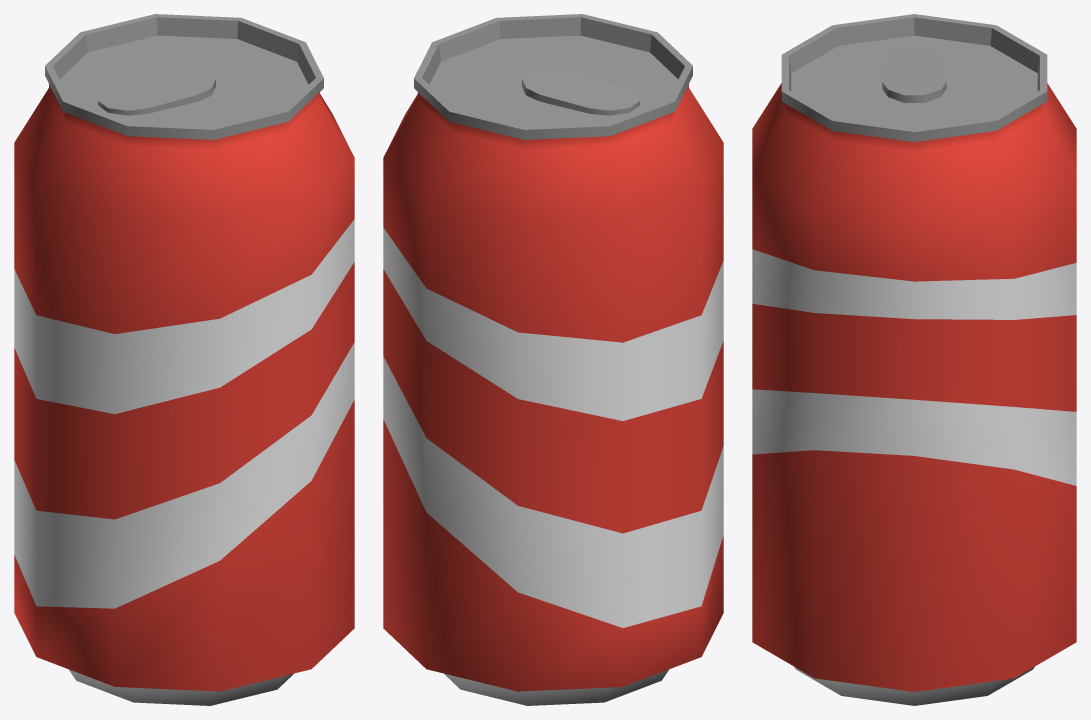
The model's file is soda.fbx.
3 renders of one model, left to right at view 1: azimuth 30°, elevation 25°; view 2: azimuth 150°, elevation 25°; view 3: azimuth 270°, elevation 25°, orthographic.
Visible parts, largest first — view 1: SodaCan_01; view 2: SodaCan_01; view 3: SodaCan_01.
Boxes of the visible parts, <box> form: SodaCan_01: <box>14,14,354,705</box>; SodaCan_01: <box>383,14,723,705</box>; SodaCan_01: <box>752,14,1076,705</box>.
Bounding box in the file's own units: 92.68 × 174 × 88.14.
